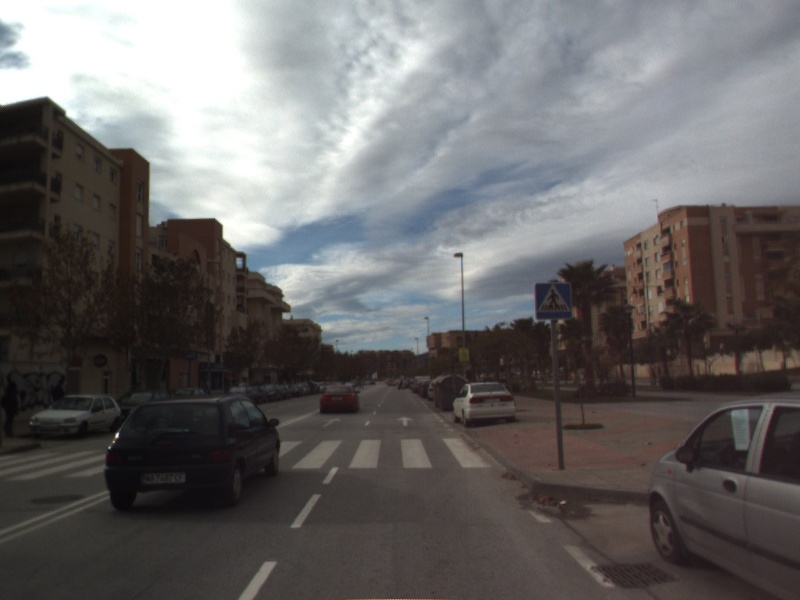STRAIGHT: (320, 415, 343, 429), (395, 414, 415, 428)
